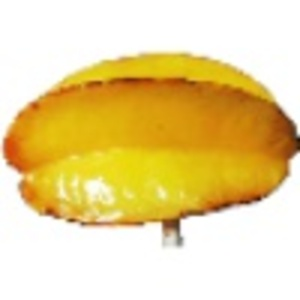carambola: (1, 50, 300, 246)
